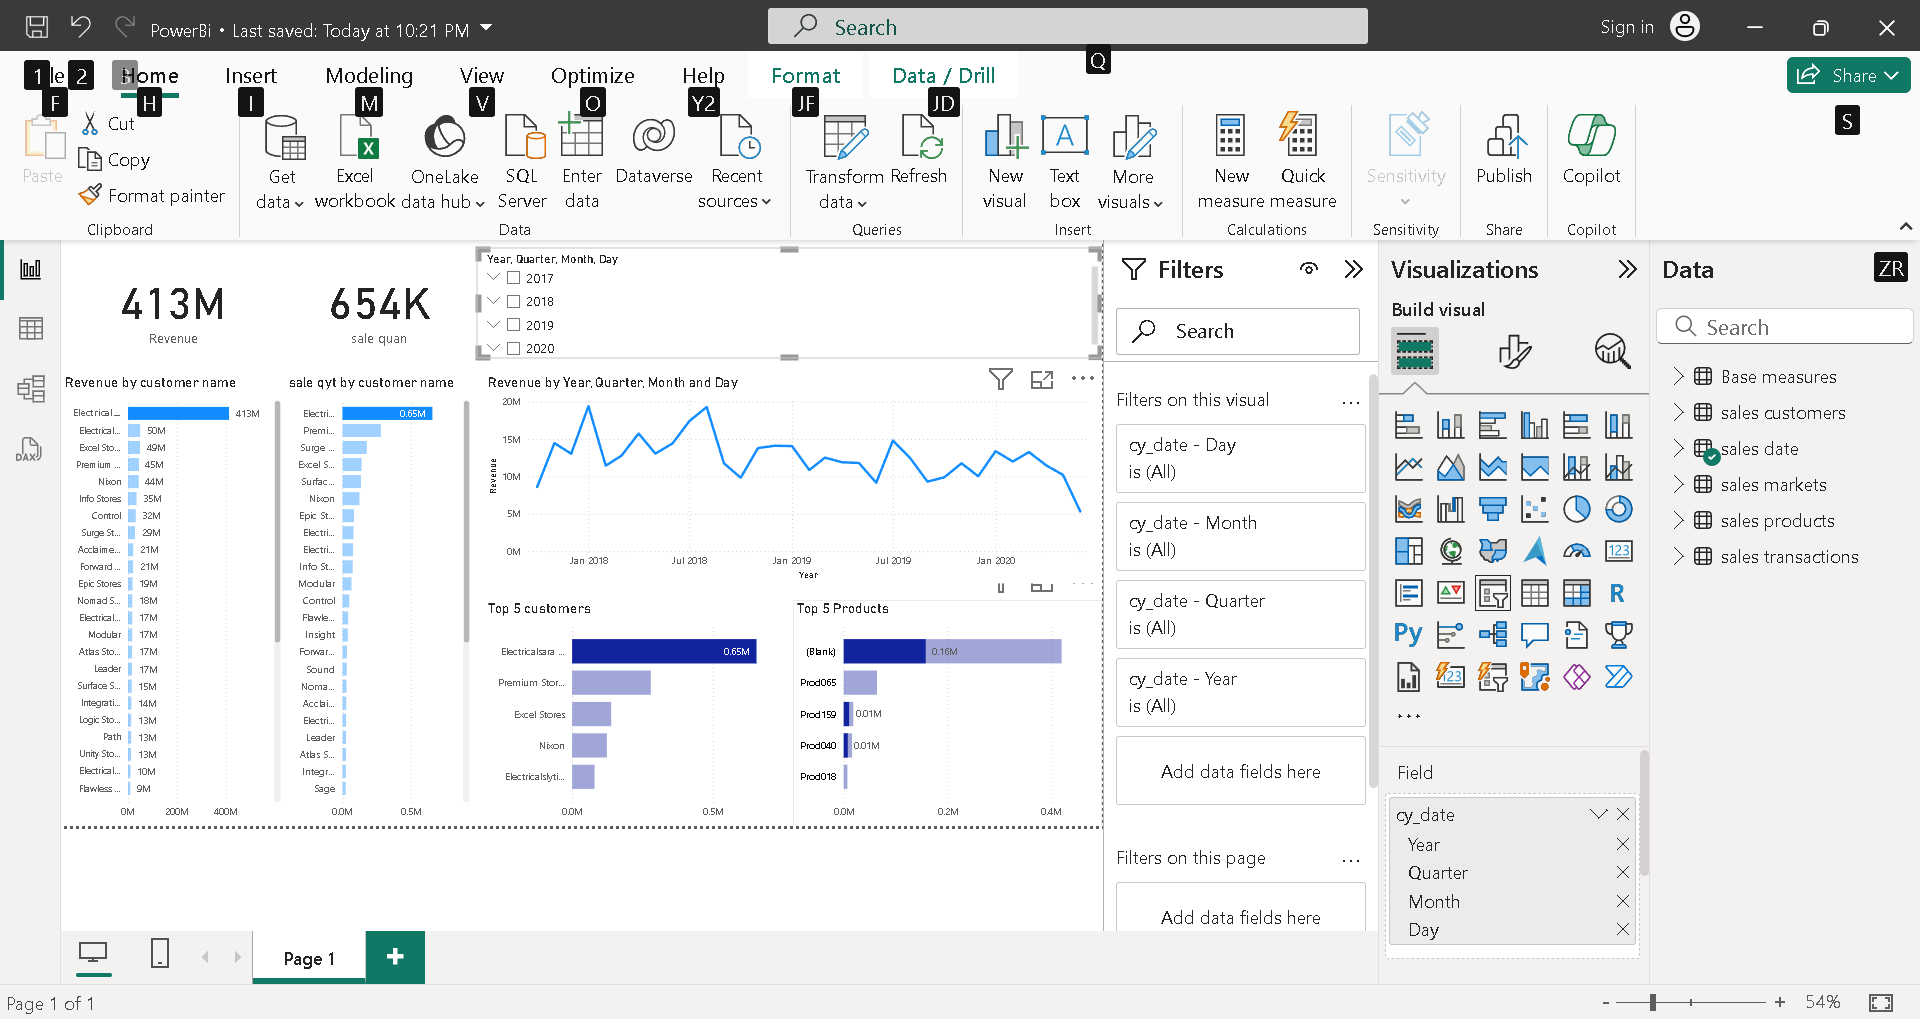

The dashboard page shown, as its layout file describes it:
{"tool":"powerbi","page":{"name":"Page 1","canvas":[1280,720],"ordinal":0},"visuals":[{"type":"card","fields":{"Values":["Base measures.Revenue"]},"box":[0,0,274.7,164.1],"z":0},{"type":"barChart","title":"Revenue by customer name","fields":{"Y":["Base measures.Revenue"],"Category":["sales customers.custmer_name"]},"box":[0,164.1,274.7,556.7],"z":1000},{"type":"card","fields":{"Values":["Base measures.sale quan"]},"box":[274.7,0,232.3,164.1],"z":2000},{"type":"barChart","title":"sale qyt by customer name","fields":{"Y":["Base measures.sale quan"],"Category":["sales customers.custmer_name"]},"box":[274.7,164.1,232.3,556.7],"z":3000},{"type":"slicer","fields":{"Values":["sales date.cy_date.Variation.Date Hierarchy.Year","sales date.cy_date.Variation.Date Hierarchy.Quarter","sales date.cy_date.Variation.Date Hierarchy.Month","sales date.cy_date.Variation.Date Hierarchy.Day"]},"box":[510.7,9.2,768.7,136.4],"z":4000},{"type":"barChart","title":"Top 5 customers","fields":{"Y":["Base measures.sale quan"],"Category":["sales customers.custmer_name"]},"box":[519.9,442.4,379.8,278.4],"z":5000},{"type":"barChart","title":"Top 5 Products","fields":{"Y":["Base measures.sale quan"],"Category":["sales products.product_code"]},"box":[899.6,442.4,379.8,278.4],"z":6000},{"type":"lineChart","fields":{"Y":["Base measures.Revenue"],"Category":["sales date.cy_date.Variation.Date Hierarchy.Year","sales date.cy_date.Variation.Date Hierarchy.Quarter","sales date.cy_date.Variation.Date Hierarchy.Month","sales date.cy_date.Variation.Date Hierarchy.Day"]},"box":[519.9,164.1,759.5,258.1],"z":7000}]}

Visuals, with their boxes on the page's 1280x720 design canvas (x1, y1, x2, y2). These are canvas units, not pixel positions in the 1920x1019 screenshot, which may show the page scaled, cropped or inside an application window:
card - Base measures.Revenue: (x1=0, y1=0, x2=275, y2=164)
"Revenue by customer name" barChart: (x1=0, y1=164, x2=275, y2=721)
card - Base measures.sale quan: (x1=275, y1=0, x2=507, y2=164)
"sale qyt by customer name" barChart: (x1=275, y1=164, x2=507, y2=721)
slicer - sales date.cy_date.Variation.Date Hierarchy.Year x sales date.cy_date.Variation.Date Hierarchy.Quarter: (x1=511, y1=9, x2=1279, y2=146)
"Top 5 customers" barChart: (x1=520, y1=442, x2=900, y2=721)
"Top 5 Products" barChart: (x1=900, y1=442, x2=1279, y2=721)
lineChart - Base measures.Revenue x sales date.cy_date.Variation.Date Hierarchy.Year: (x1=520, y1=164, x2=1279, y2=422)
